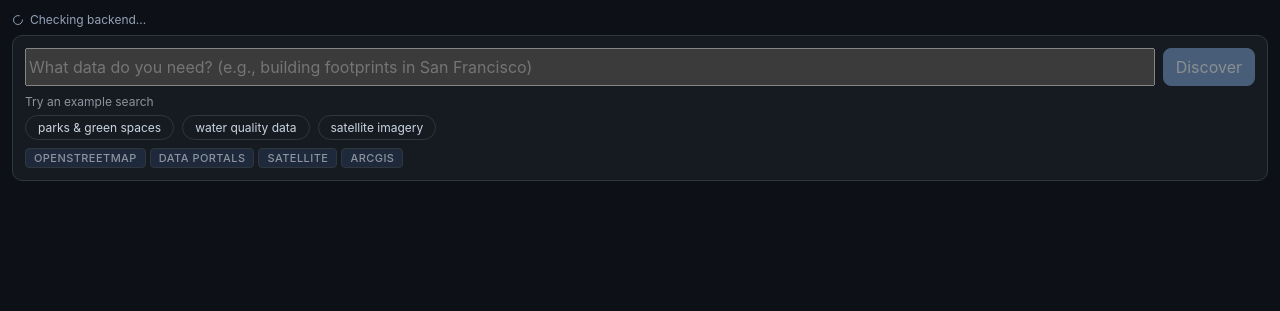
DiscoveryPanel — loading states › shows Searching... during discovery search
Replace the text in the field with placeholder "What data do you need" with "buildings" at {"x": 590, "y": 67}, box 25,48 -> 1155,86
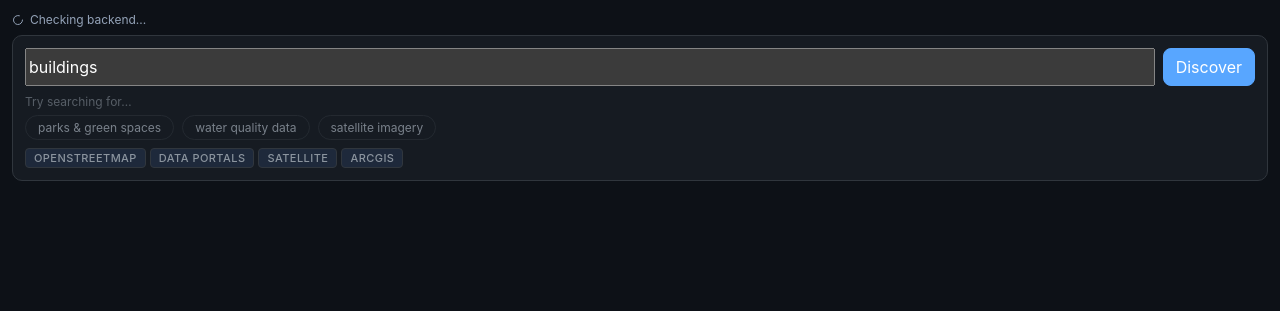
Click the button "Discover".
click(1209, 67)  # box 1163,48 -> 1255,86
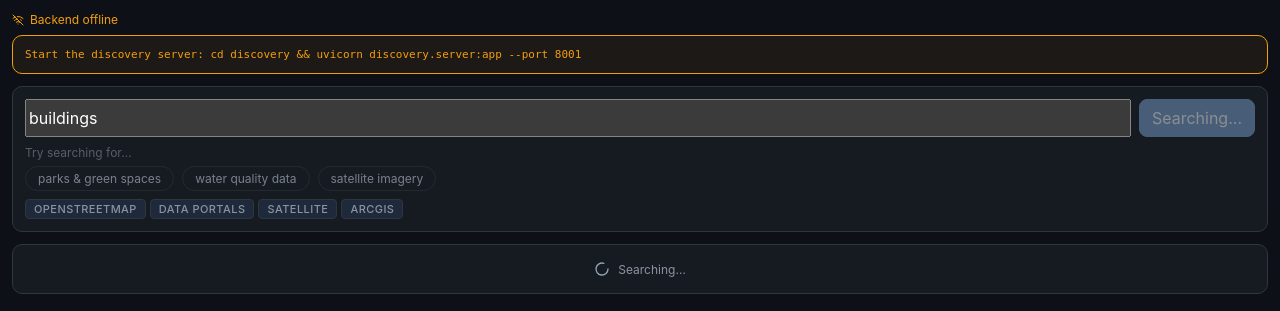
Result: the button "Searching..." is shown at 1139,99 -> 1255,137
